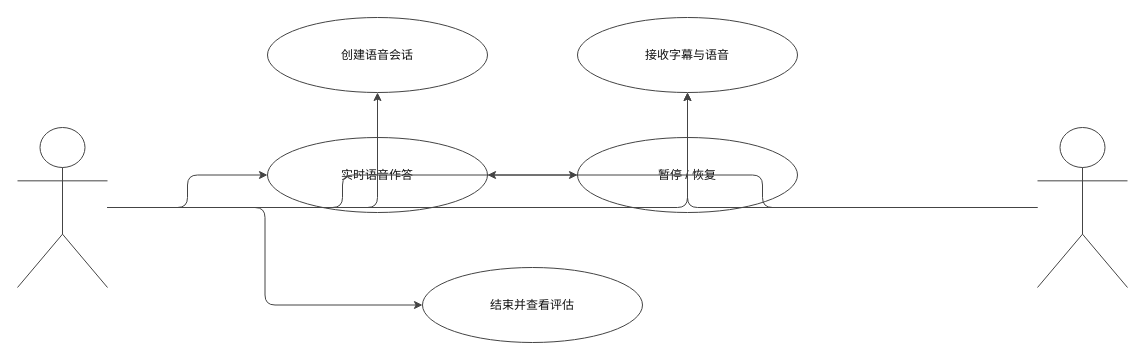
The diagram is 1145 pixels wide and 360 high, and some of its shapes have lost their labels. Here are the shapes that lost their labels. From the top down, the centre of each, then its label:
At (62,207): "求职者".
At (1082,207): "语音与模型服务".
